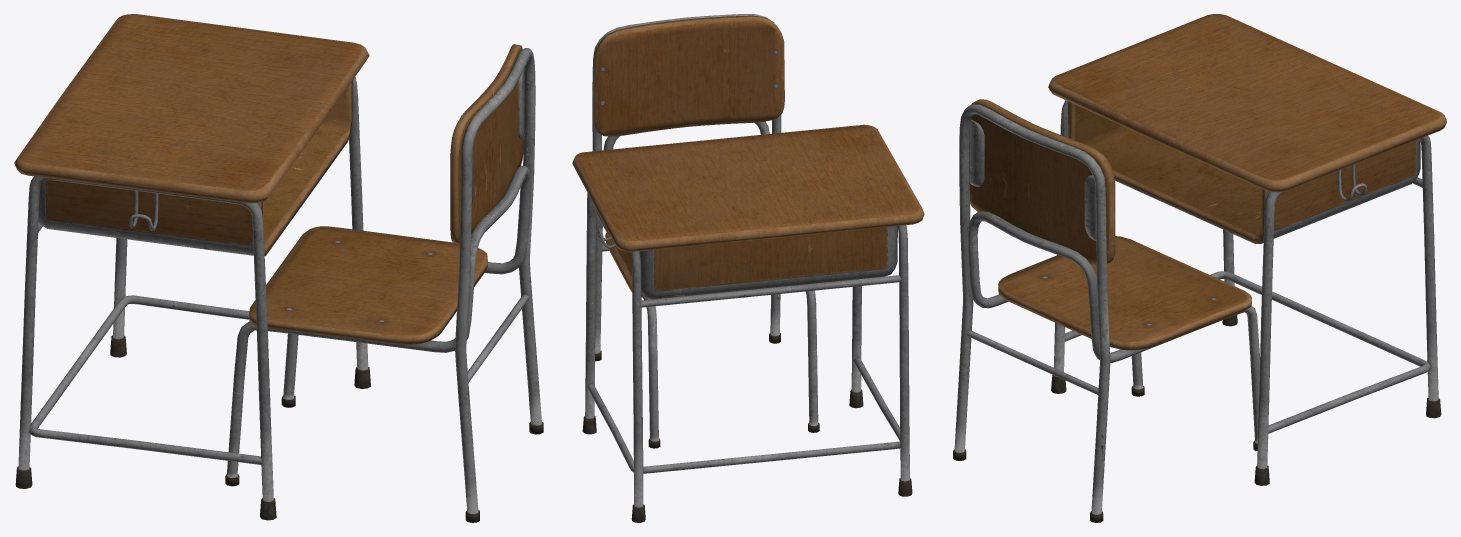
The model's file is school_desk.glb.
3 views of the same model, side by side, from view 1: azimuth 30°, elevation 25°; view 2: azimuth 150°, elevation 25°; view 3: azimuth 270°, elevation 25° (orthographic). The views are drawn at different scales.
Visible parts, largest first — view 1: DeskWood_L, ChairWood_L, ChairMetal_L, DeskMetal_L; view 2: DeskWood_L, ChairWood_L, DeskMetal_L, ChairMetal_L; view 3: DeskWood_L, ChairWood_L, ChairMetal_L, DeskMetal_L.
Boxes of the visible parts, <box> form: DeskWood_L: <box>14,14,369,255</box>; ChairWood_L: <box>249,44,523,344</box>; ChairMetal_L: <box>225,48,543,522</box>; DeskMetal_L: <box>15,77,370,520</box>; DeskWood_L: <box>572,124,924,299</box>; ChairWood_L: <box>593,15,784,297</box>; DeskMetal_L: <box>582,192,912,522</box>; ChairMetal_L: <box>592,14,819,448</box>; DeskWood_L: <box>1048,14,1446,243</box>; ChairWood_L: <box>969,99,1251,350</box>; ChairMetal_L: <box>953,104,1259,522</box>; DeskMetal_L: <box>1051,100,1441,485</box>.
Bounding box in the file's own units: 146 × 120 × 148.
1 material, 1 textured.
